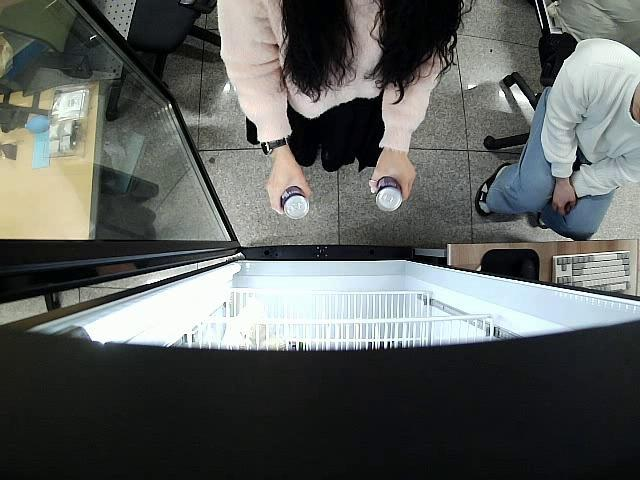16_hot6: (372, 174, 402, 214), (280, 186, 310, 222)
